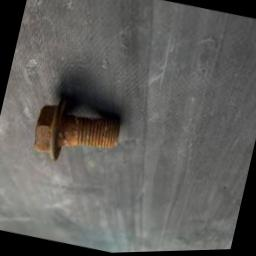Corroded-Bolt: (34, 98, 120, 160)
